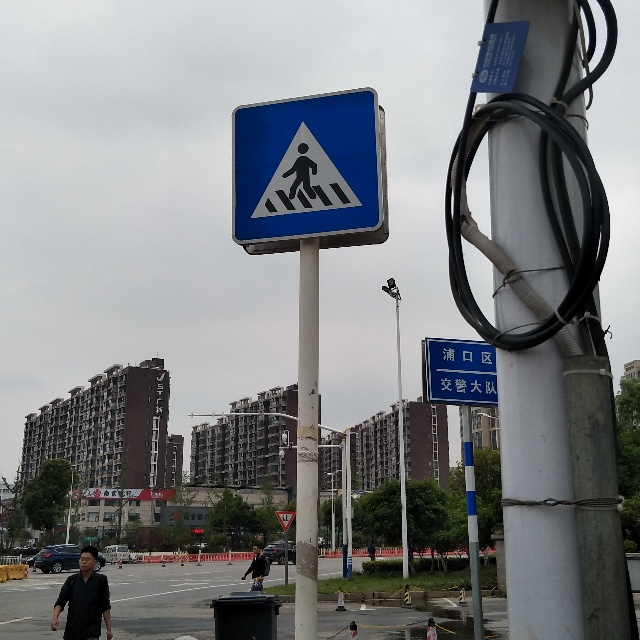crosswalk: (237, 106, 372, 225)
